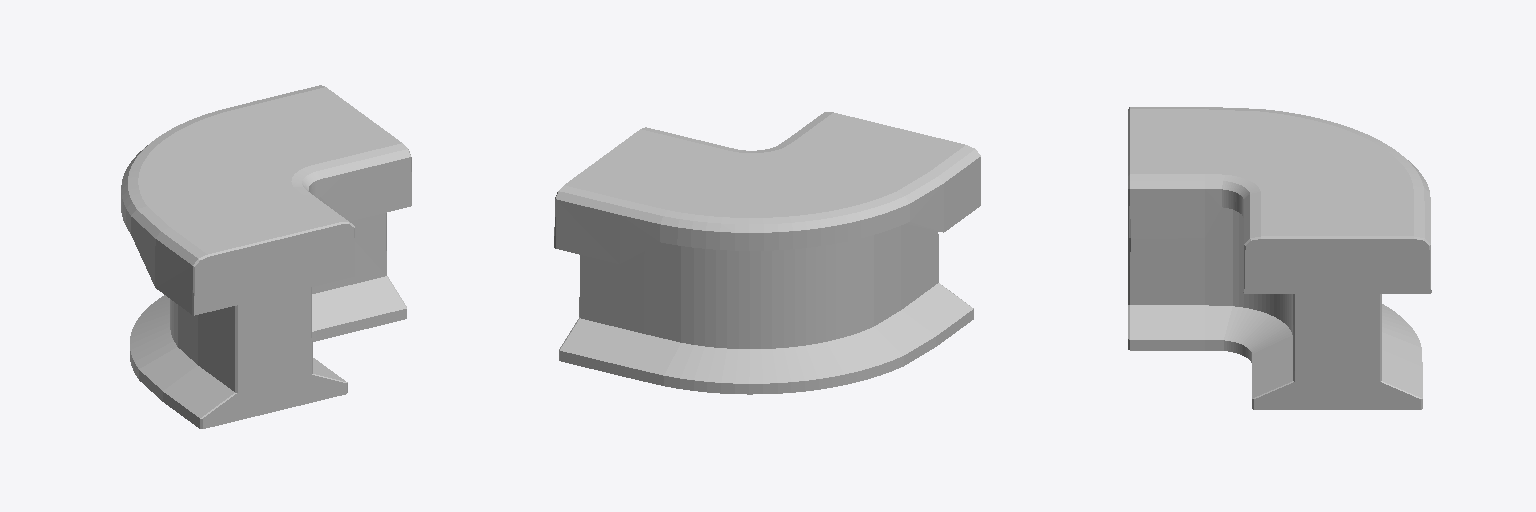
Rendered from officeWall_corner.obj.
The picture shows the model from 3 angles: view 1: azimuth 30°, elevation 25°; view 2: azimuth 150°, elevation 25°; view 3: azimuth 270°, elevation 25°; orthographic projection.
Parts seen in each view (by area): view 1: office_desk_corner; view 2: office_desk_corner; view 3: office_desk_corner.
Boxes of the visible parts, <box> form: office_desk_corner: <box>121,85,411,428</box>; office_desk_corner: <box>554,112,980,394</box>; office_desk_corner: <box>1128,107,1431,409</box>.
Bounding box in the file's own units: 1.67 × 0.9958 × 1.58.